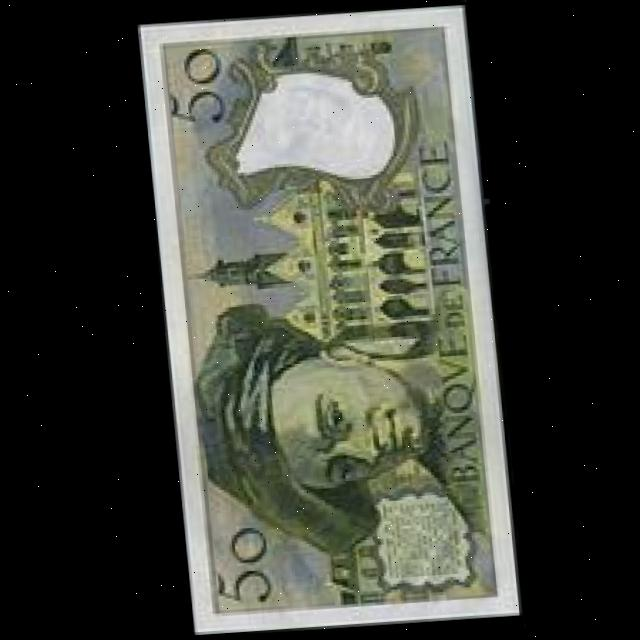banknote: (131, 0, 522, 638), (206, 516, 278, 616), (160, 42, 231, 124)
